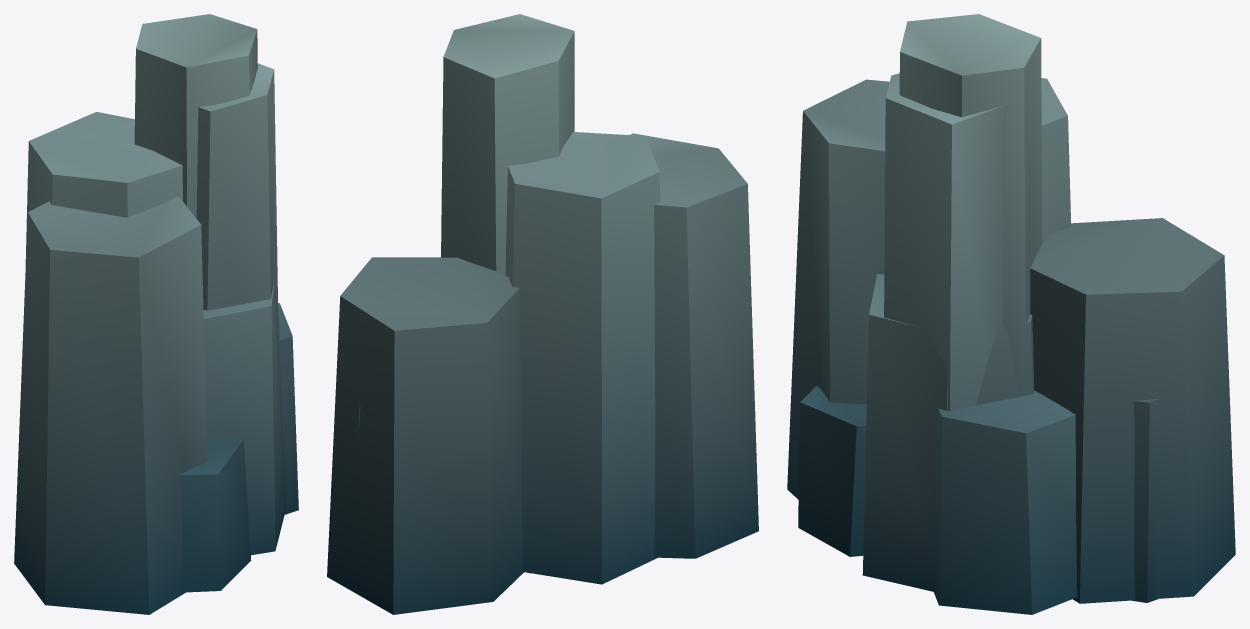
Rendered from prop_basalt_cluster.glb.
3 views of the same model, side by side, from view 1: azimuth 30°, elevation 25°; view 2: azimuth 150°, elevation 25°; view 3: azimuth 270°, elevation 25° (orthographic). The views are drawn at different scales.
Visible parts, largest first — view 1: prop_basalt_cluster_stone; view 2: prop_basalt_cluster_stone; view 3: prop_basalt_cluster_stone.
Part boxes in pixels (x1,y1,x2,y2): prop_basalt_cluster_stone: (14, 14, 298, 614); prop_basalt_cluster_stone: (327, 14, 758, 614); prop_basalt_cluster_stone: (787, 14, 1235, 614).
Bounding box in the file's own units: 2.68 × 3.88 × 3.04.
